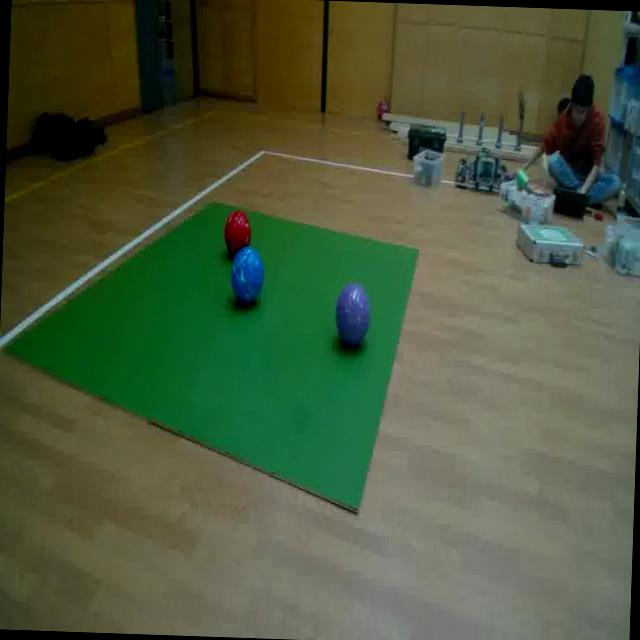blue_ball: (231, 245, 264, 305)
purple_ball: (334, 282, 370, 345)
red_ball: (224, 208, 252, 257)
